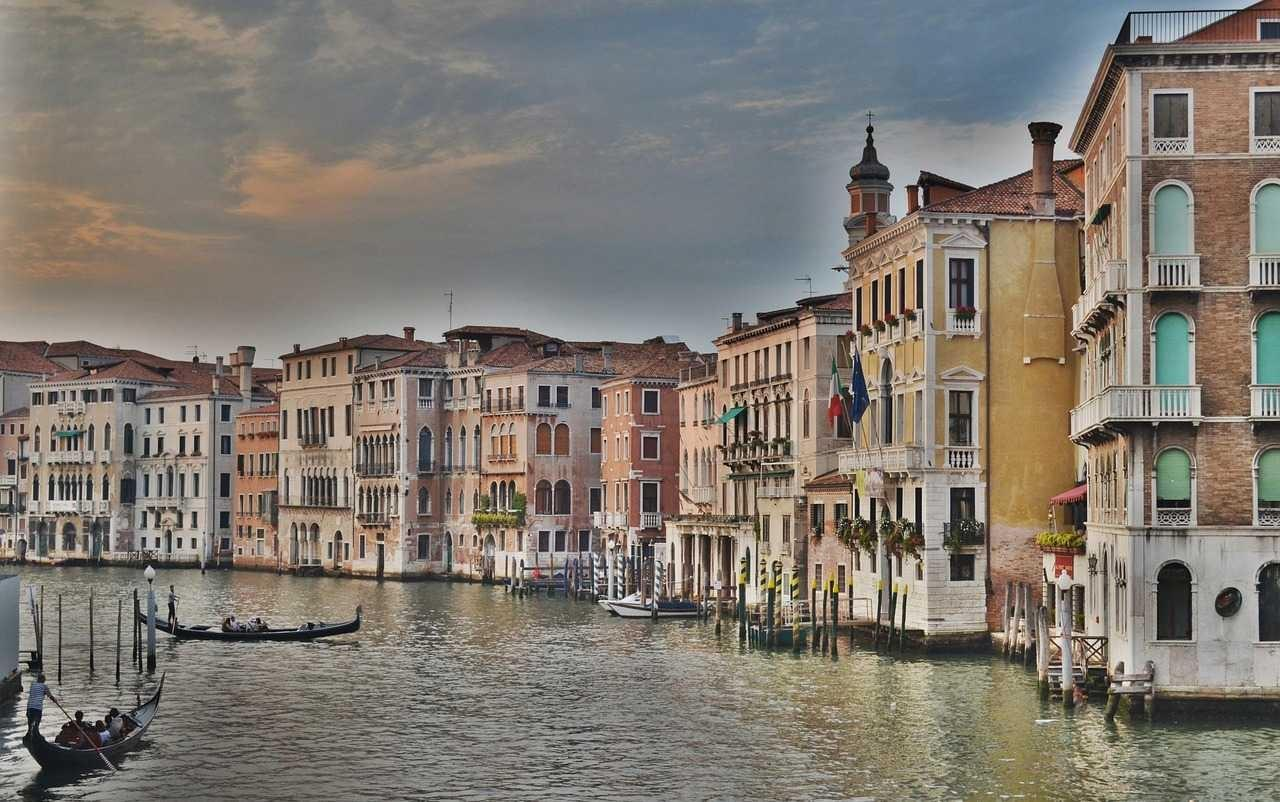kayak: (21, 669, 166, 775), (140, 601, 363, 644), (47, 698, 123, 761), (1, 572, 22, 701), (602, 593, 704, 618), (60, 706, 105, 748)
